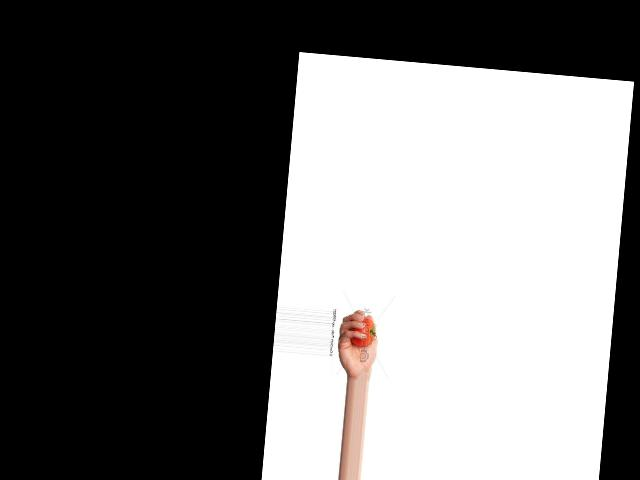tomato: (348, 315, 376, 346)
